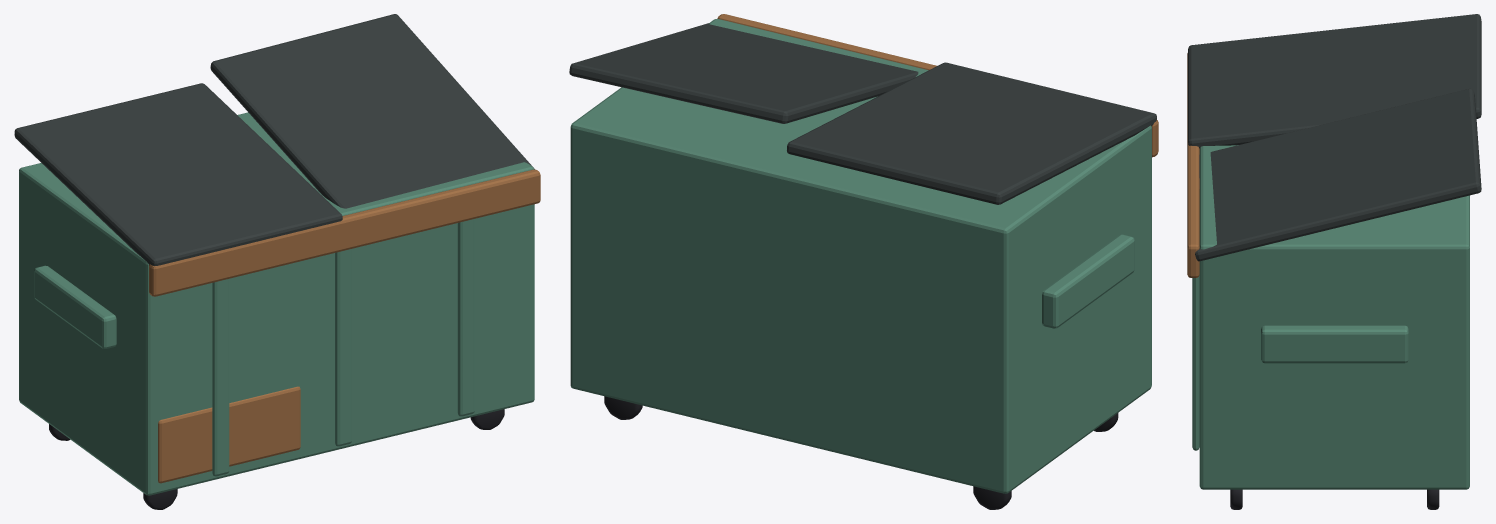
Rendered from dumpster.glb.
The picture shows the model from 3 angles, left to right: view 1: azimuth 30°, elevation 25°; view 2: azimuth 150°, elevation 25°; view 3: azimuth 270°, elevation 25°; orthographic projection. The views are drawn at different scales.
Visible parts, largest first — view 1: dumpster; view 2: dumpster; view 3: dumpster.
Part boxes in pixels (x1=…): dumpster: x1=14, y1=14, x2=540, y2=509; dumpster: x1=569, y1=14, x2=1158, y2=509; dumpster: x1=1187, y1=14, x2=1481, y2=509.
Size of the model in its own units: 2.04 by 1.52 by 1.2.
